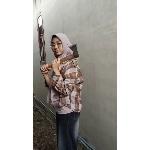Kapak: (45, 40, 81, 74)
